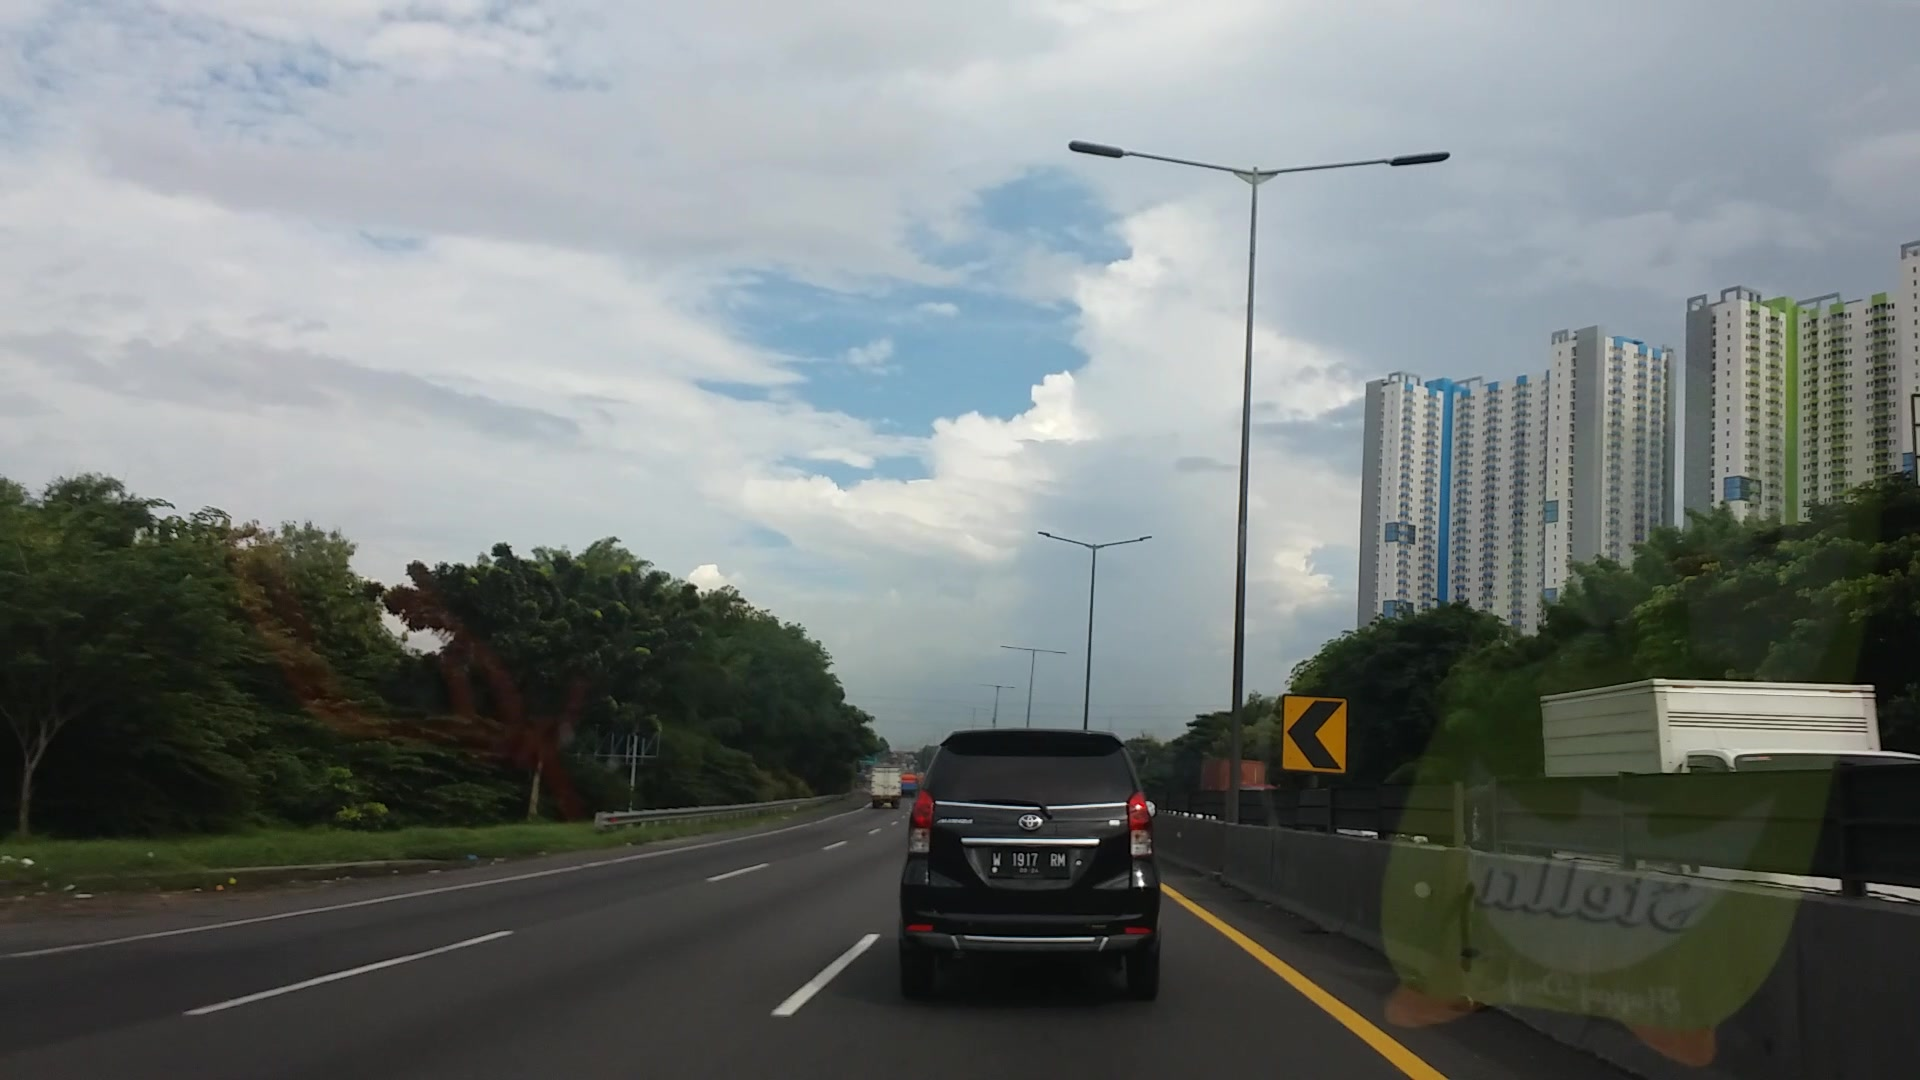plate_positive: (988, 849, 1068, 876)
